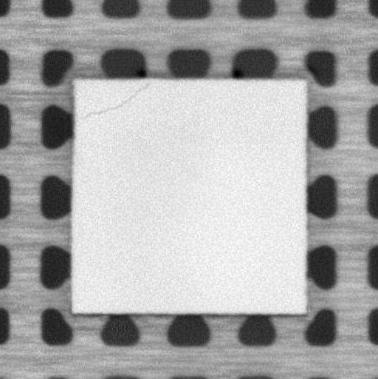DIE_CRACK: (83, 80, 152, 119)
